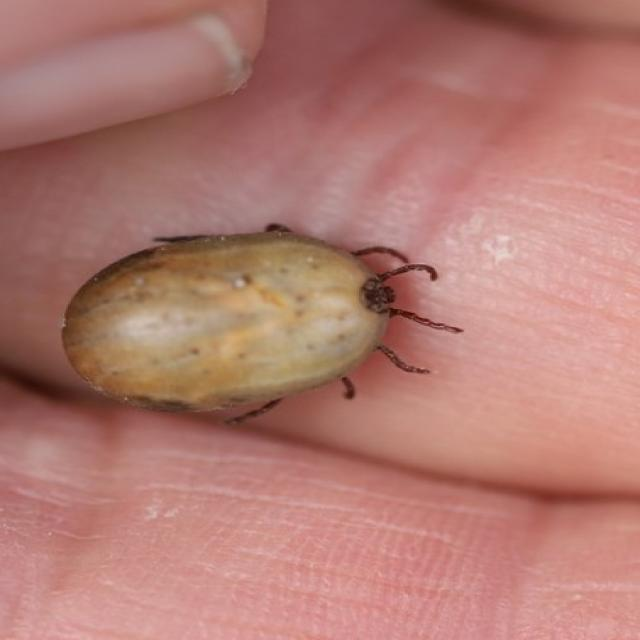Dermacentor Reticulatus-F-Fed: (61, 223, 462, 425)
